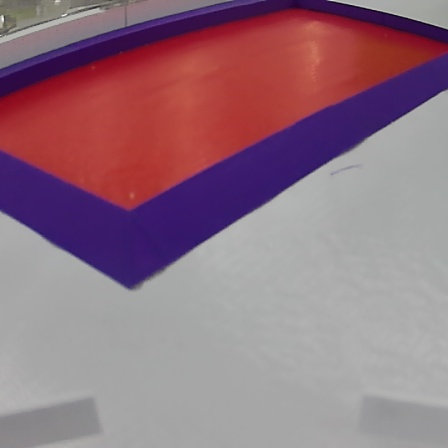red_aim: (2, 1, 448, 290)
